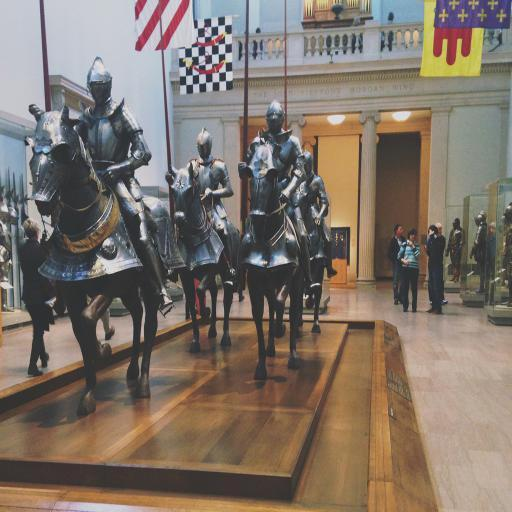Horse: (28, 104, 168, 418), (240, 163, 305, 383), (168, 162, 240, 353), (292, 181, 329, 333)
